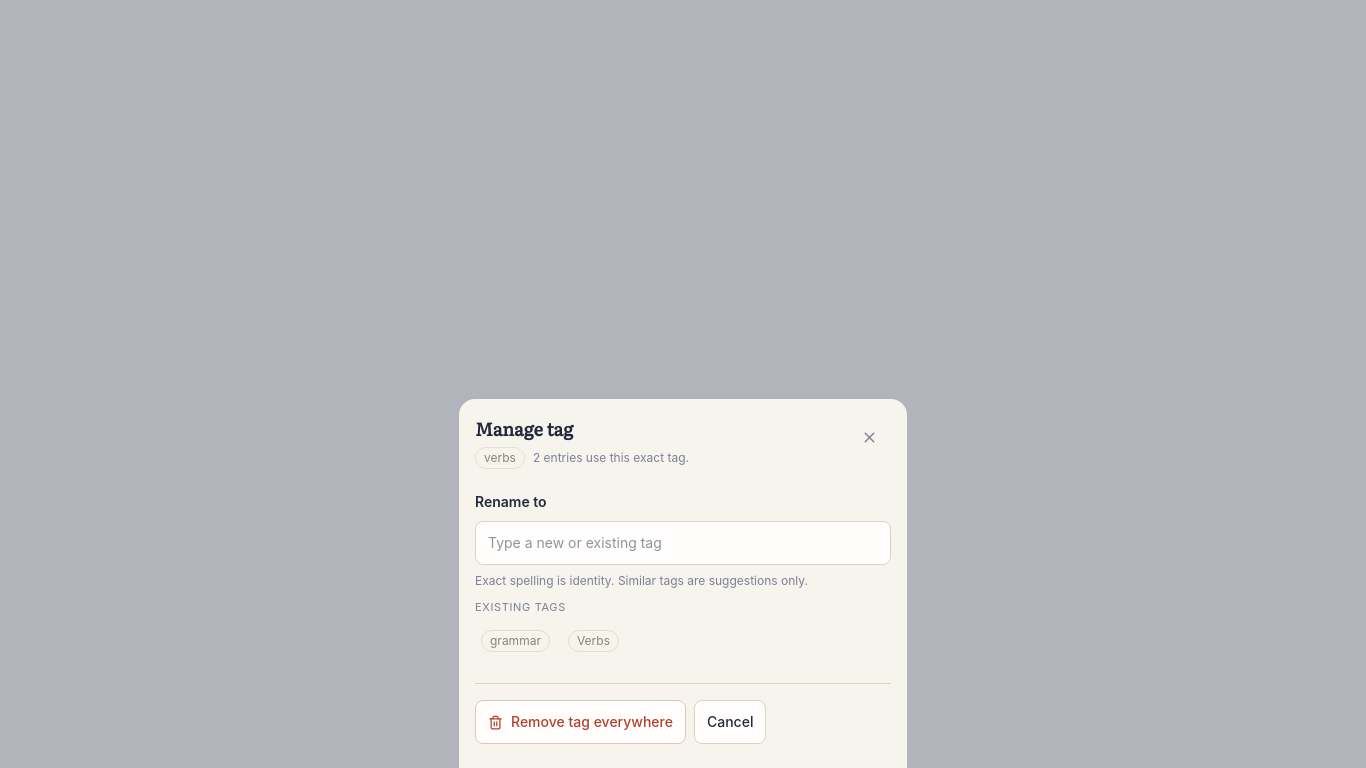
TagManagementSheet › leaves the sheet open with an inline problem when the transaction fails
Type "word classes" into the field named "New tag name" at coordinates (683, 543), box top-left (475, 521), bottom-right (891, 565)
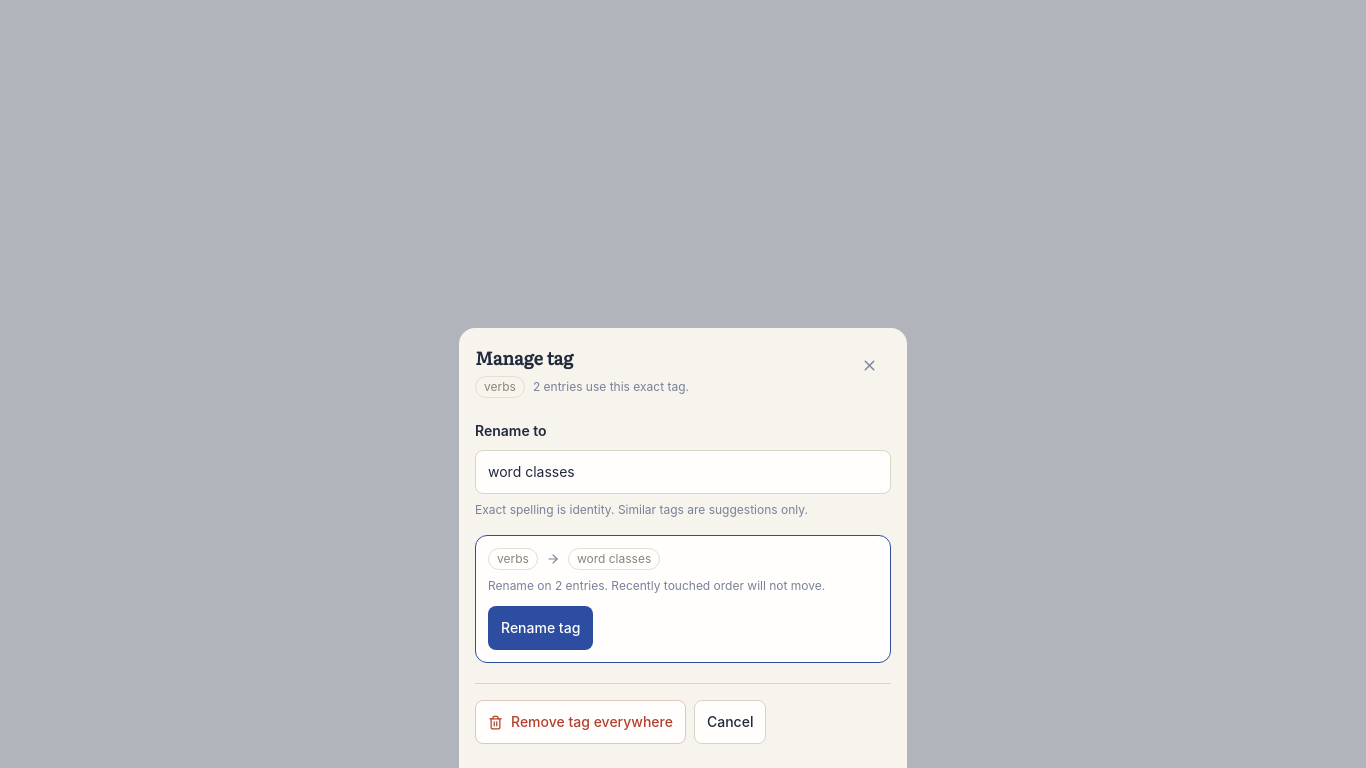
Click the button "Rename tag" at coordinates (541, 628), box top-left (488, 606), bottom-right (593, 650)
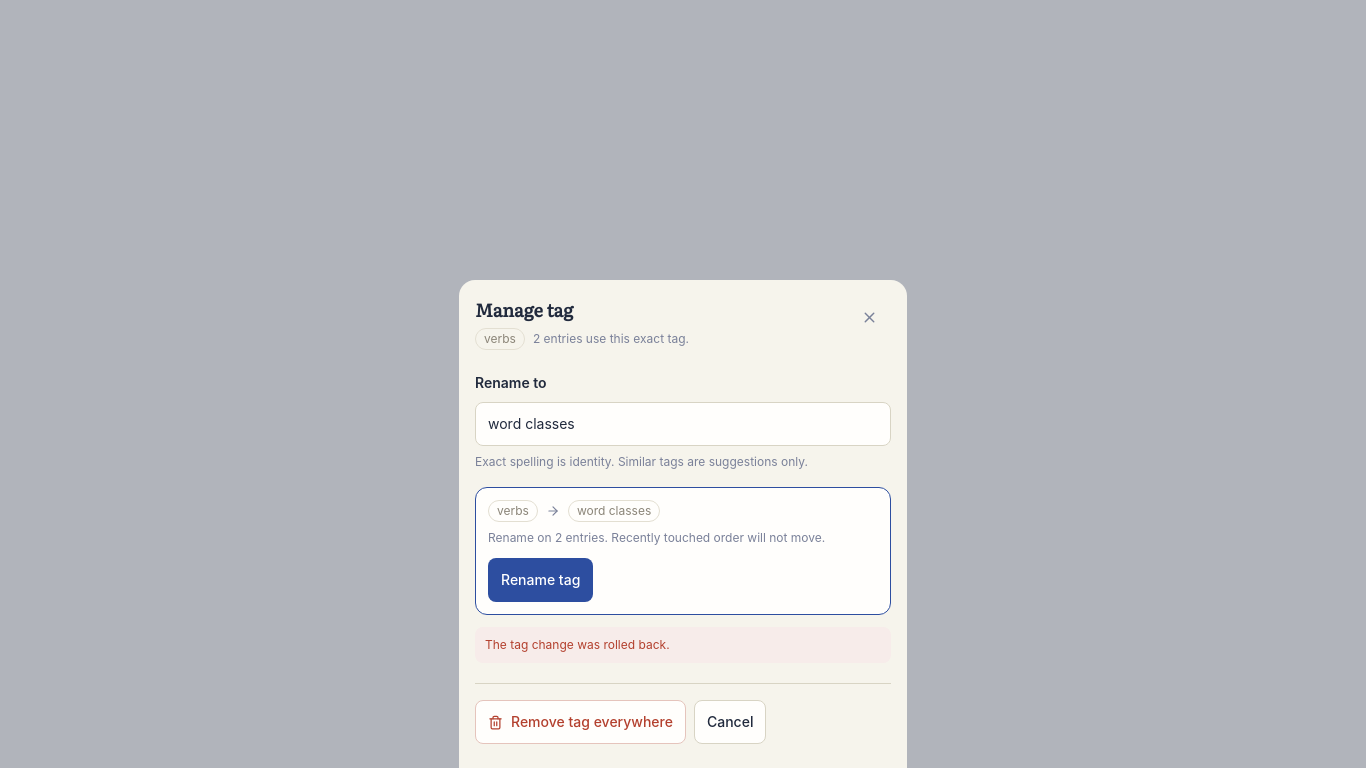
Expected: the dialog "Manage tag" is shown, top-left (459, 280), bottom-right (907, 767)
Now the message reads "The tag change was rolled back.", box top-left (485, 637), bottom-right (670, 652)
